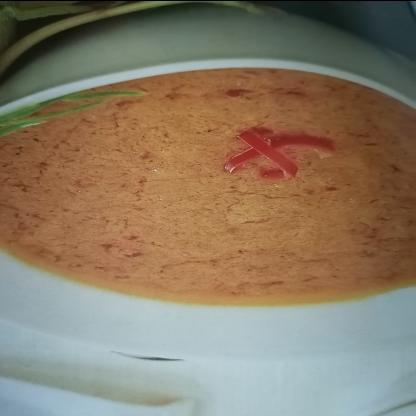Namprig: (0, 74, 415, 306)
